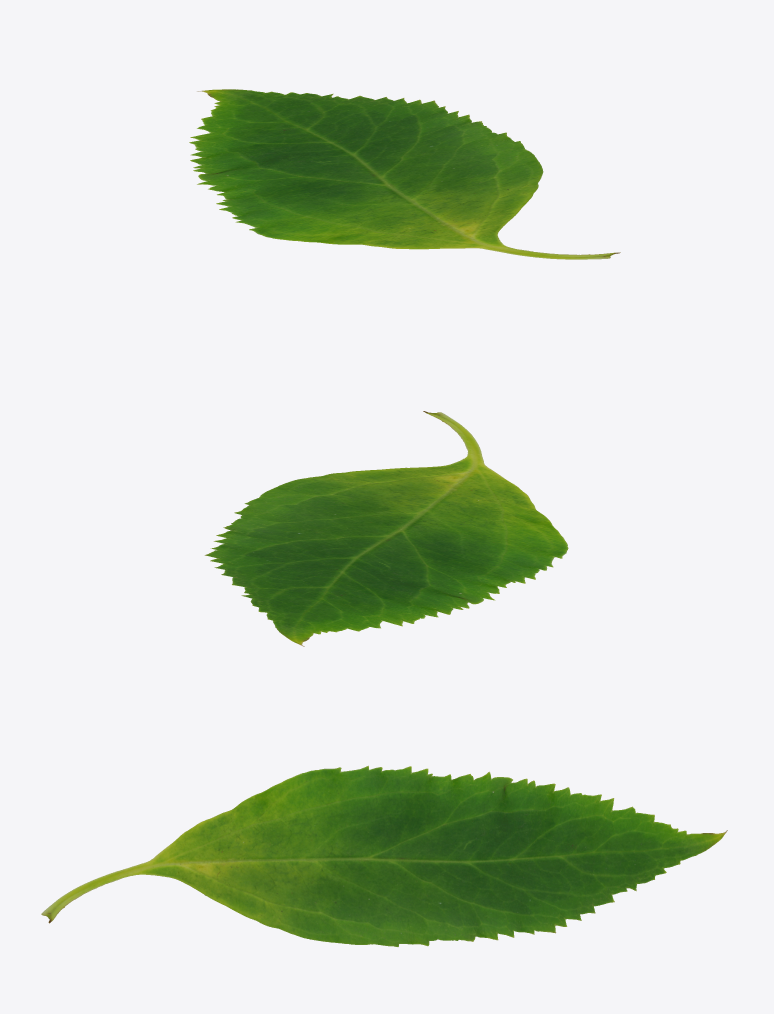
Rendered from leafPlane.obj.
3 renders of one model, top to bottom at view 1: azimuth 30°, elevation 25°; view 2: azimuth 150°, elevation 25°; view 3: azimuth 270°, elevation 25°, orthographic. The views are drawn at different scales.
Visible parts, largest first — view 1: pPlane1; view 2: pPlane1; view 3: pPlane1.
Boxes of the visible parts, bbox=[...] form: pPlane1: bbox=[189, 89, 620, 259]; pPlane1: bbox=[204, 411, 568, 646]; pPlane1: bbox=[41, 765, 727, 946].
Bounding box in the file's own units: 0.8114 × 0 × 0.9362.
1 material, 1 textured.
